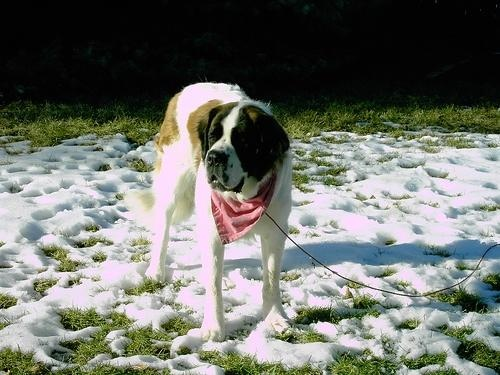dog: (125, 83, 295, 344)
